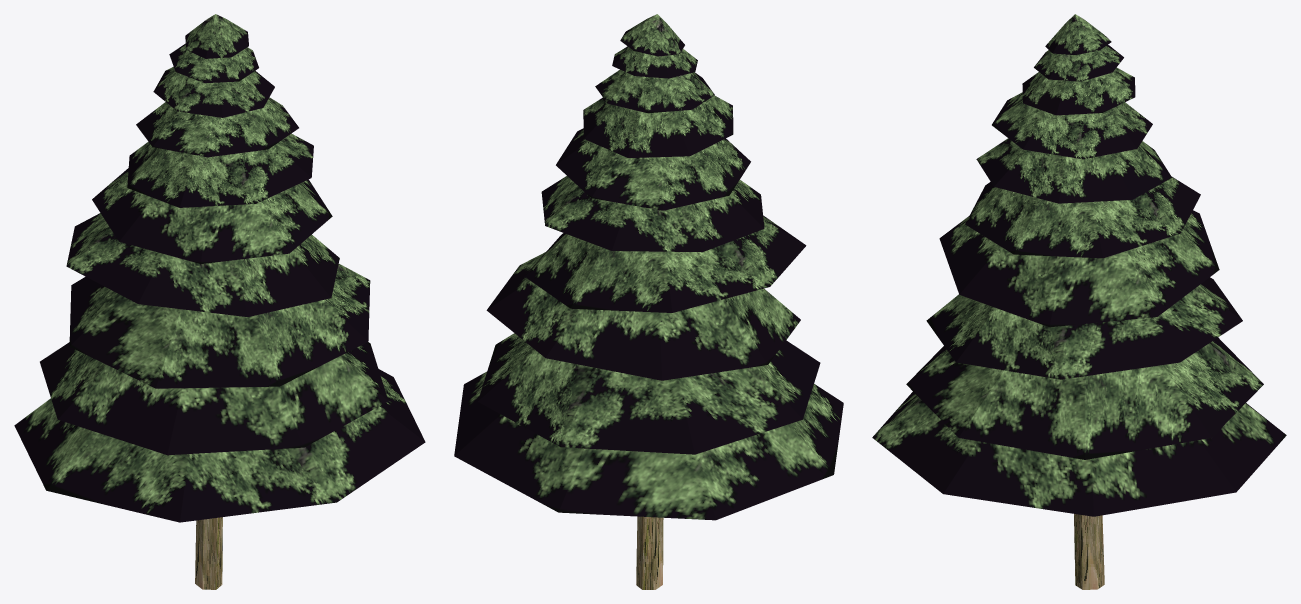
Rendered from Tree_A1B.fbx.
3 views of the same model, side by side, from view 1: azimuth 30°, elevation 25°; view 2: azimuth 150°, elevation 25°; view 3: azimuth 270°, elevation 25° (orthographic).
Visible parts, largest first — view 1: Tree_A1B; view 2: Tree_A1B; view 3: Tree_A1B.
Boxes of the visible parts, x1,y1,x2,y2 form: Tree_A1B: (14,14,425,589); Tree_A1B: (454,14,843,589); Tree_A1B: (872,14,1286,589).
Size of the model in its own units: 4.15 by 6.31 by 4.16.
